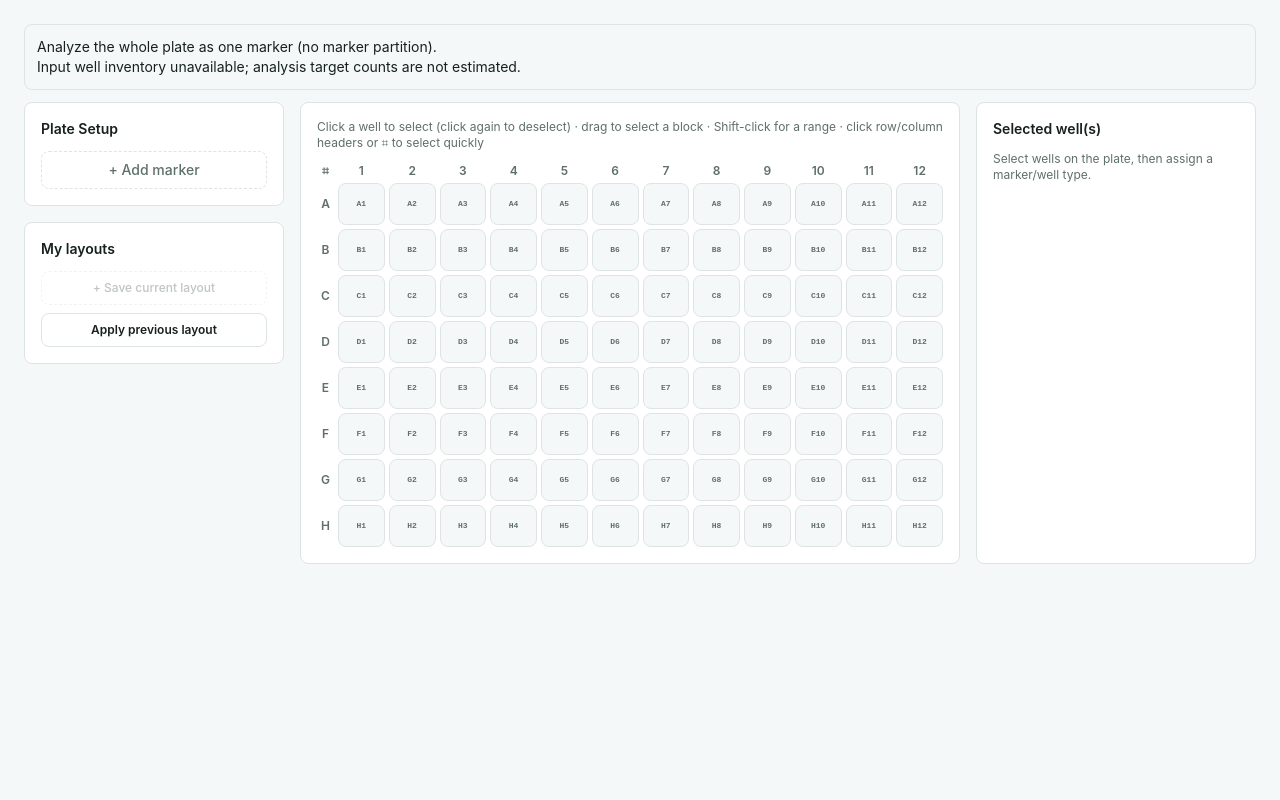
Test: keeps touch wells tap-and-scroll friendly instead of taking marquee capture
This screenshot has width=1280, height=800.
Press the mouse on the button with test id "well-A1" at (361, 204), box [338,183,385,225]
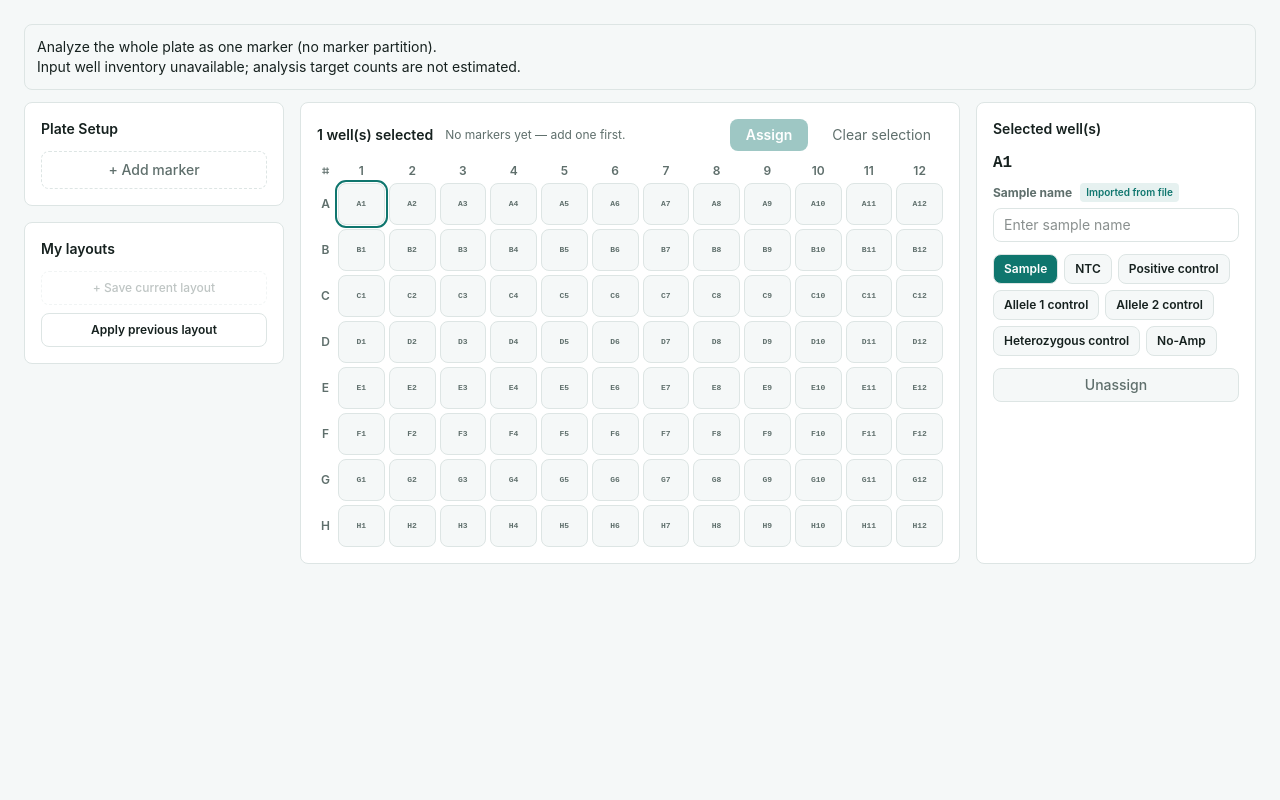
Result: the text with test id "selection-count" shows "1" at [317,126,433,143]
